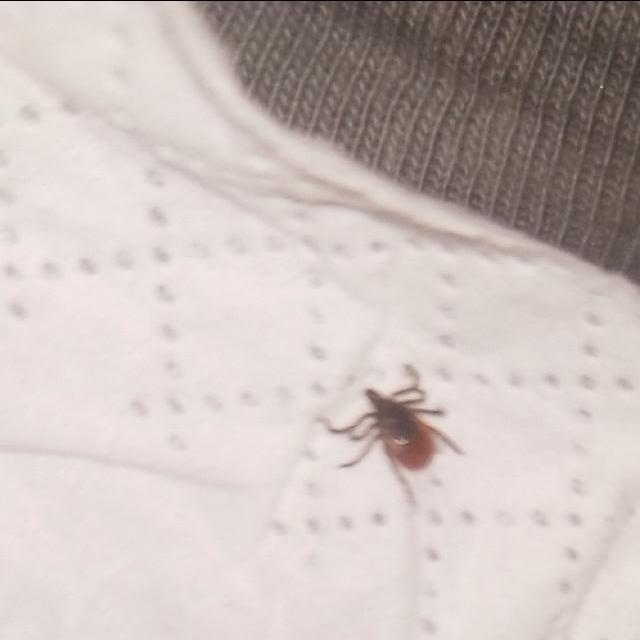Ixodes Ricinus-F: (319, 364, 463, 503)
